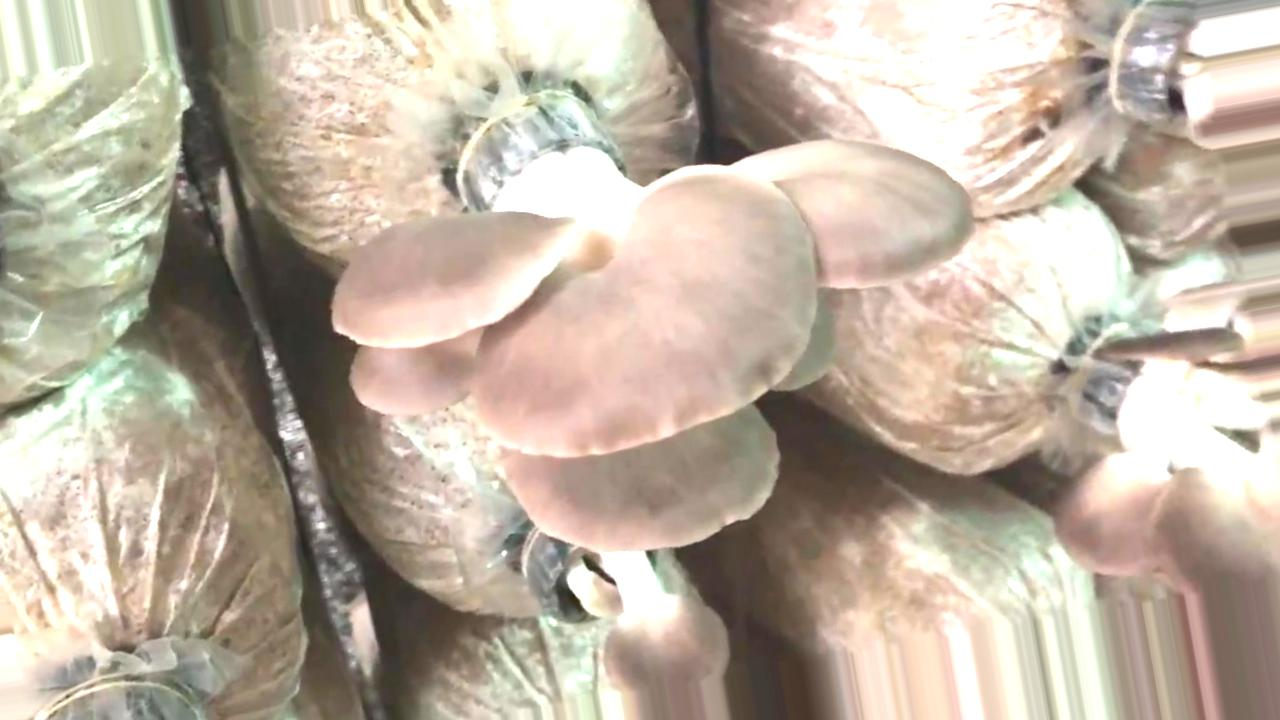nam: (330, 113, 974, 547), (1055, 272, 1278, 719), (516, 523, 727, 720), (1110, 4, 1280, 148)
